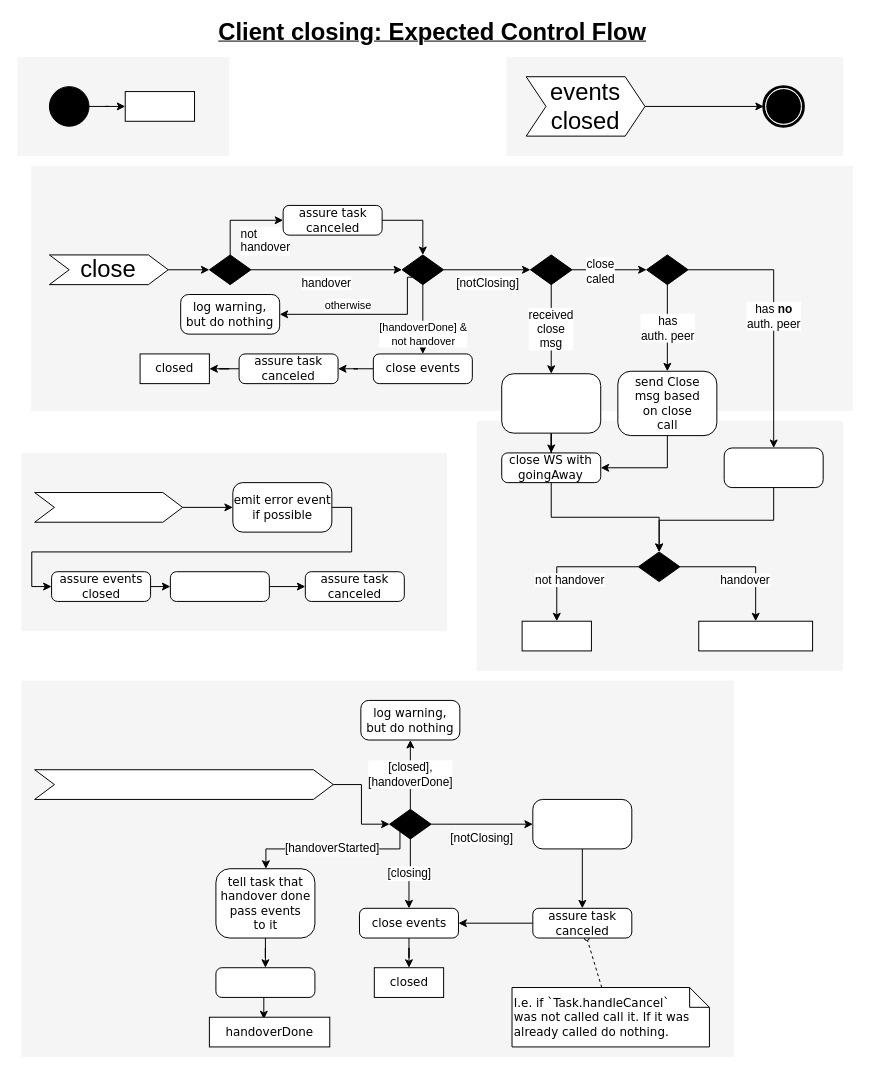
The diagram is 869 pixels wide and 1073 high, and some of its shapes have lost their labels. The centre of each missing label's shape, as x and y in pixels:
"assure Ws closed" goes at pixel 219 586.
"close WS based on close call" goes at pixel 773 467.
"closing" goes at pixel 556 635.
"emit event based on close msg" goes at pixel 551 403.
"emit event based on Ws close code" goes at pixel 582 823.
"emit handover event" goes at pixel 265 982.
"exception" goes at pixel 108 507.
"handoverStarted" goes at pixel 755 635.
"notClosed" goes at pixel 159 106.
"notifyWsStreamClosed" goes at pixel 183 784.
